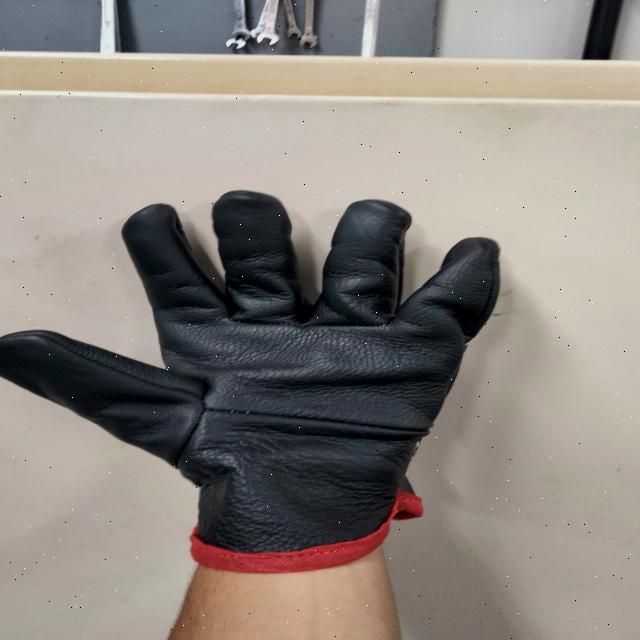Gloves: (0, 185, 534, 568)
